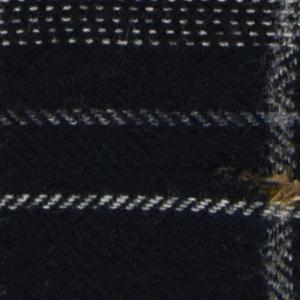Oil Stain: (238, 166, 300, 213)
